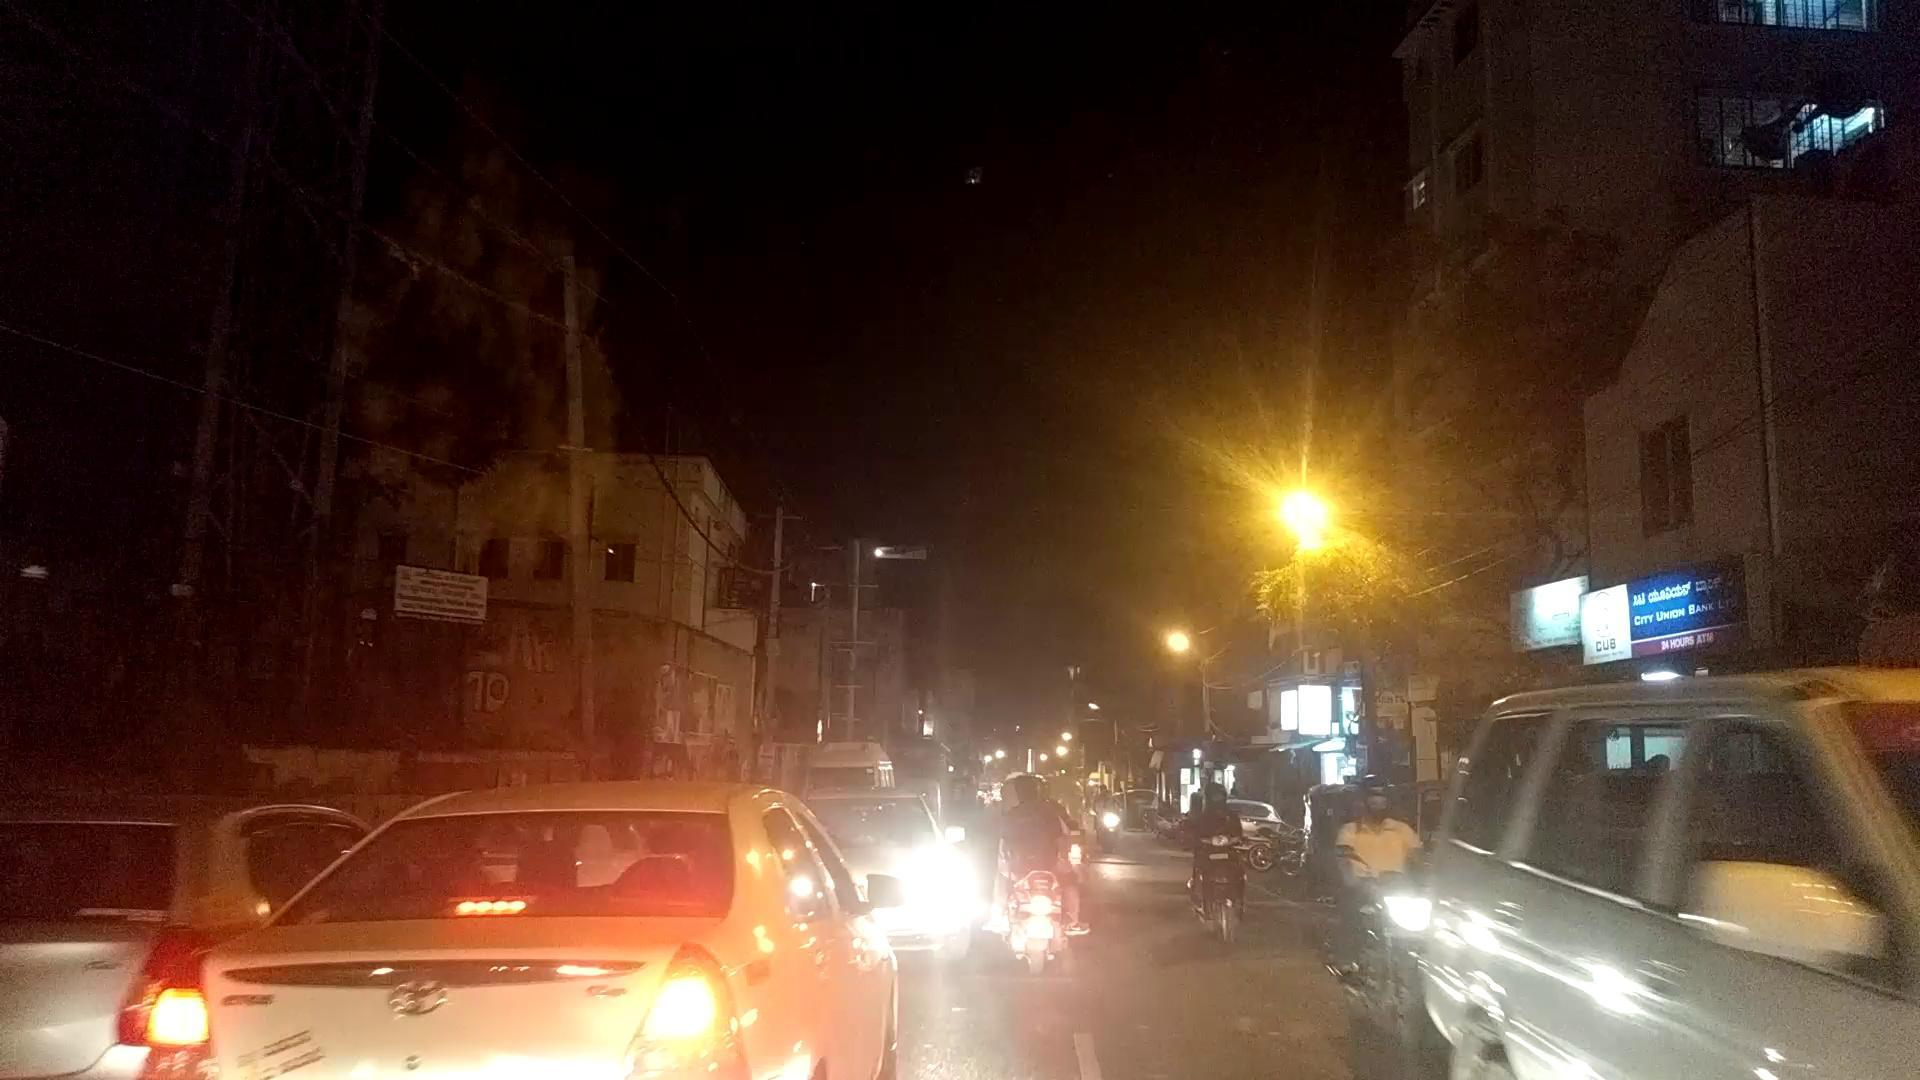on: (980, 392, 1462, 644)
